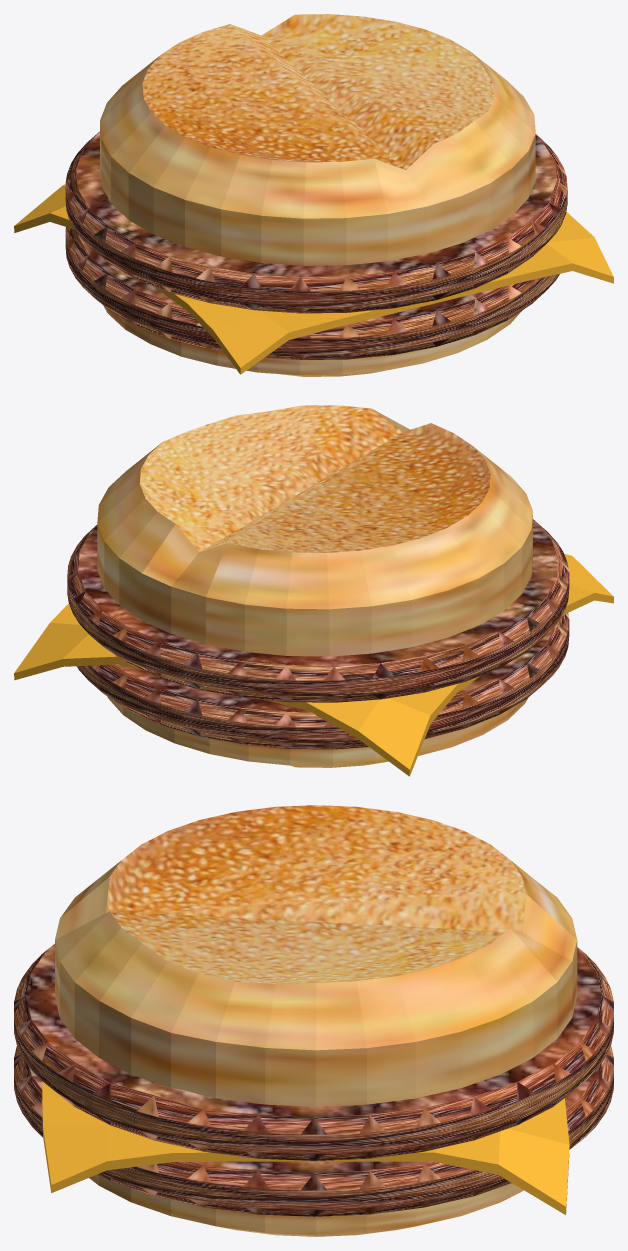
File: burger.fbx
3 views of the same model, one above another, from view 1: azimuth 30°, elevation 25°; view 2: azimuth 150°, elevation 25°; view 3: azimuth 270°, elevation 25° (orthographic). The views are drawn at different scales.
Visible parts, largest first — view 1: TopBun, Patty2, Patty, Plane, BottomBun; view 2: TopBun, Patty2, Patty, Plane, BottomBun; view 3: TopBun, Patty2, Patty, Plane, BottomBun.
Part boxes in pixels (x1,y1,x2,y2): TopBun: [100, 14, 535, 265]; Patty2: [65, 131, 567, 313]; Patty: [65, 227, 559, 359]; Plane: [14, 184, 613, 374]; BottomBun: [104, 306, 521, 376]; TopBun: [97, 405, 532, 656]; Patty2: [67, 519, 569, 702]; Patty: [77, 613, 569, 749]; Plane: [14, 553, 613, 776]; BottomBun: [107, 696, 528, 767]; TopBun: [55, 805, 577, 1106]; Patty2: [14, 944, 613, 1160]; Patty: [14, 1046, 613, 1216]; Plane: [42, 1081, 569, 1214]; BottomBun: [89, 1174, 523, 1236].
Bounding box in the file's own units: 230 × 108 × 230.
Materials: 3 (3 with a texture image).
